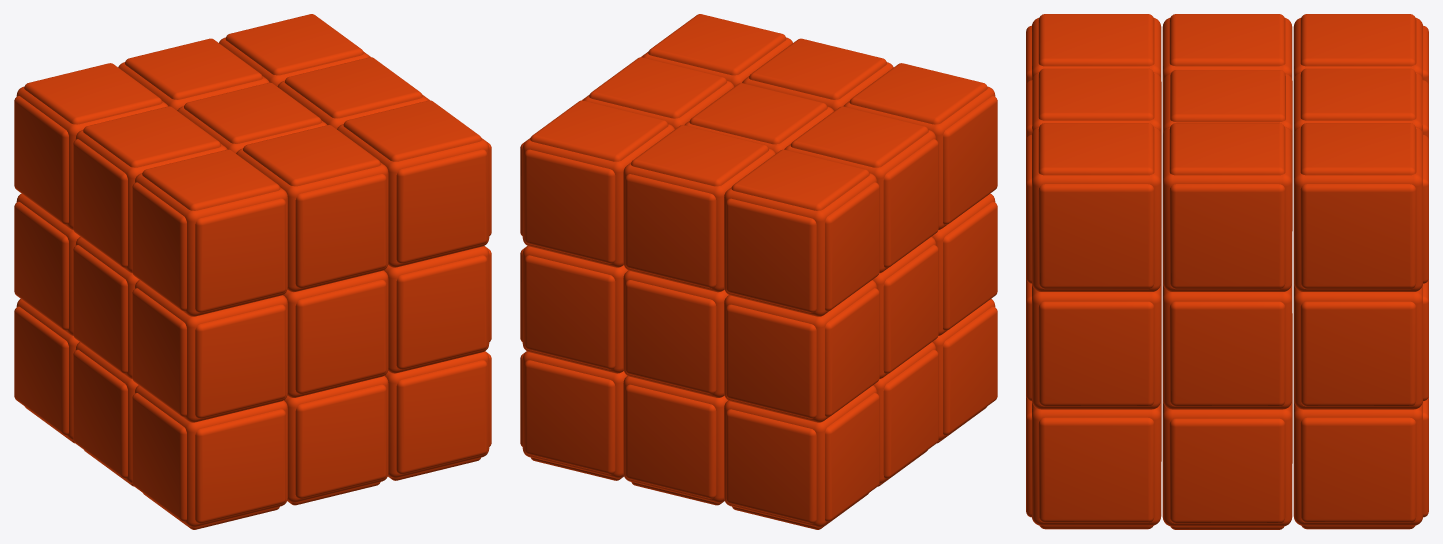
The model's file is rubiks_cube.obj.
The picture shows the model from 3 angles, left to right: view 1: azimuth 30°, elevation 25°; view 2: azimuth 150°, elevation 25°; view 3: azimuth 270°, elevation 25°; orthographic projection. The views are drawn at different scales.
Parts seen in each view (by area): view 1: Rubik_s_Cube_30, Rubik_s_Cube_41, Rubik_s_Cube_31, _Rubik_s_Cube_29, Rubik_s_Cube_32, Rubik_s_Cube_29, _Rubik_s_Cube_27, _Rubik_s_Cube_32, Rubik_s_Cube_40, Rubik_s_Cube_37, Rubik_s_Cube_36, Rubik_s_Cube_43 (+26 smaller); view 2: Rubik_s_Cube_29, _Rubik_s_Cube_01, Rubik_s_Cube_27, _Rubik_s_Cube_28, Rubik_s_Cube_28, _Rubik_s_Cube_27, Rubik_s_Cube_30, Rubik_s_Cube_39, _Rubik_s_Cube_33, Rubik_s_Cube_38, _Rubik_s_Cube_30, Rubik_s_Cube_43 (+26 smaller); view 3: Rubik_s_Cube_27, Rubik_s_Cube_31, Rubik_s_Cube_33, Rubik_s_Cube_39, _Rubik_s_Cube_32, Rubik_s_Cube_37, Rubik_s_Cube_38, _Rubik_s_Cube_34, _Rubik_s_Cube_31, Rubik_s_Cube_30, Rubik_s_Cube_32, Rubik_s_Cube_28 (+18 smaller).
Part boxes in pixels (left/top/right/bottom): Rubik_s_Cube_30: left=132, top=149, right=285, bottom=312; Rubik_s_Cube_41: left=132, top=393, right=285, bottom=529; Rubik_s_Cube_31: left=343, top=100, right=491, bottom=263; _Rubik_s_Cube_29: left=132, top=288, right=285, bottom=418; Rubik_s_Cube_32: left=243, top=125, right=386, bottom=288; Rubik_s_Cube_29: left=14, top=63, right=162, bottom=224; _Rubik_s_Cube_27: left=73, top=106, right=220, bottom=267; _Rubik_s_Cube_32: left=388, top=352, right=491, bottom=480; Rubik_s_Cube_40: left=287, top=384, right=386, bottom=505; Rubik_s_Cube_37: left=396, top=247, right=491, bottom=369; Rubik_s_Cube_36: left=295, top=280, right=386, bottom=394; Rubik_s_Cube_43: left=73, top=349, right=133, bottom=486; Rubik_s_Cube_29: left=726, top=149, right=879, bottom=312; _Rubik_s_Cube_01: left=726, top=393, right=879, bottom=529; Rubik_s_Cube_27: left=520, top=100, right=668, bottom=263; _Rubik_s_Cube_28: left=726, top=288, right=879, bottom=418; Rubik_s_Cube_28: left=625, top=125, right=768, bottom=288; _Rubik_s_Cube_27: left=790, top=106, right=938, bottom=267; Rubik_s_Cube_30: left=849, top=63, right=997, bottom=224; Rubik_s_Cube_39: left=520, top=352, right=623, bottom=480; _Rubik_s_Cube_33: left=625, top=384, right=724, bottom=505; Rubik_s_Cube_38: left=520, top=247, right=615, bottom=369; _Rubik_s_Cube_30: left=625, top=280, right=716, bottom=394; Rubik_s_Cube_43: left=878, top=349, right=938, bottom=486; Rubik_s_Cube_27: left=1300, top=123, right=1428, bottom=289; Rubik_s_Cube_31: left=1026, top=123, right=1154, bottom=289; Rubik_s_Cube_33: left=1169, top=123, right=1285, bottom=289; Rubik_s_Cube_39: left=1300, top=396, right=1428, bottom=529; _Rubik_s_Cube_32: left=1026, top=396, right=1154, bottom=529; Rubik_s_Cube_37: left=1026, top=278, right=1154, bottom=406; Rubik_s_Cube_38: left=1300, top=278, right=1428, bottom=406; _Rubik_s_Cube_34: left=1169, top=418, right=1285, bottom=529; _Rubik_s_Cube_31: left=1169, top=301, right=1285, bottom=406; Rubik_s_Cube_30: left=1026, top=14, right=1154, bottom=139; Rubik_s_Cube_32: left=1026, top=68, right=1154, bottom=138; Rubik_s_Cube_28: left=1300, top=68, right=1428, bottom=139.
Bounding box in the file's own units: 57.85 × 57.59 × 58.17.
